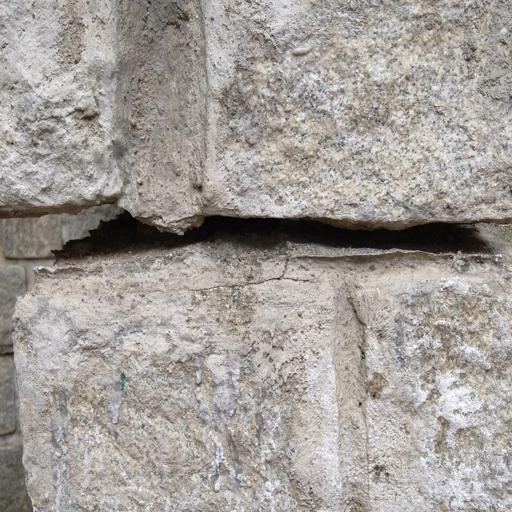major_crack: (41, 174, 492, 291)
